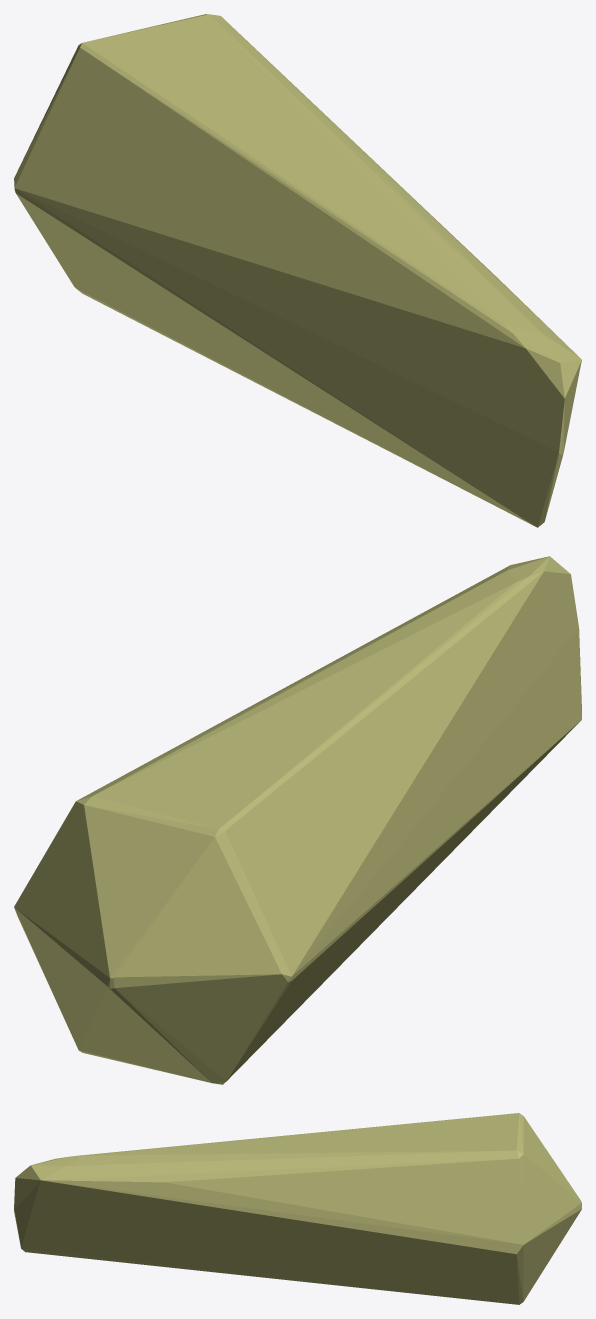
The model's file is blood_line_a01.glb.
The picture shows the model from 3 angles, top to bottom: view 1: azimuth 30°, elevation 25°; view 2: azimuth 150°, elevation 25°; view 3: azimuth 270°, elevation 25°; orthographic projection. The views are drawn at different scales.
Visible parts, largest first — view 1: geometry_0; view 2: geometry_0; view 3: geometry_0.
Boxes of the visible parts, x1=… form: geometry_0: x1=14, y1=14, x2=581, y2=527; geometry_0: x1=14, y1=556, x2=581, y2=1084; geometry_0: x1=14, y1=1113, x2=581, y2=1304.
Size of the model in its own units: 0.1589 by 0.1424 by 0.48.
